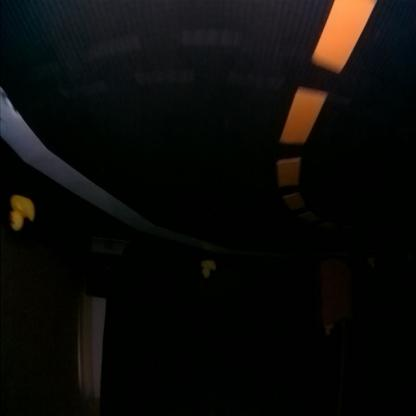Duckie: (11, 196, 35, 230), (204, 263, 216, 277)
